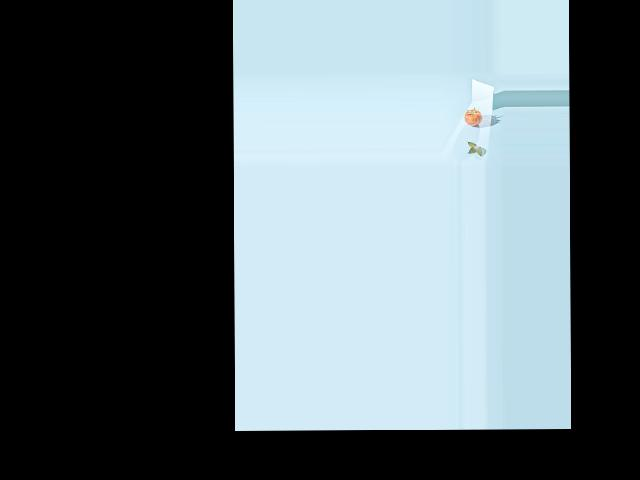tomato: (464, 109, 482, 125)
